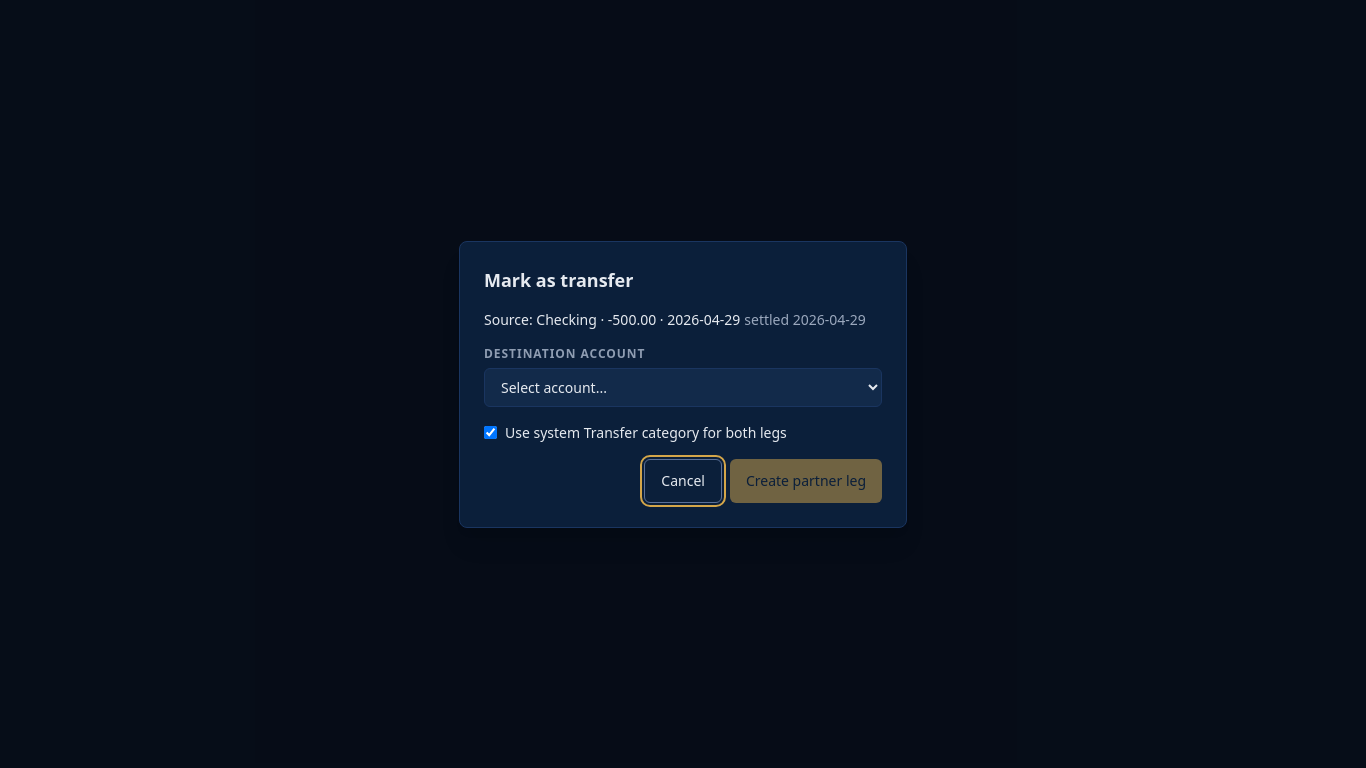
Scenario: MarkAsTransferModal › Stage 2 multi-candidate: radios shown, none pre-selected, primary disabled until pick
Select "Savings" in the dropdown at x=683, y=387, box [484,368,882,406]
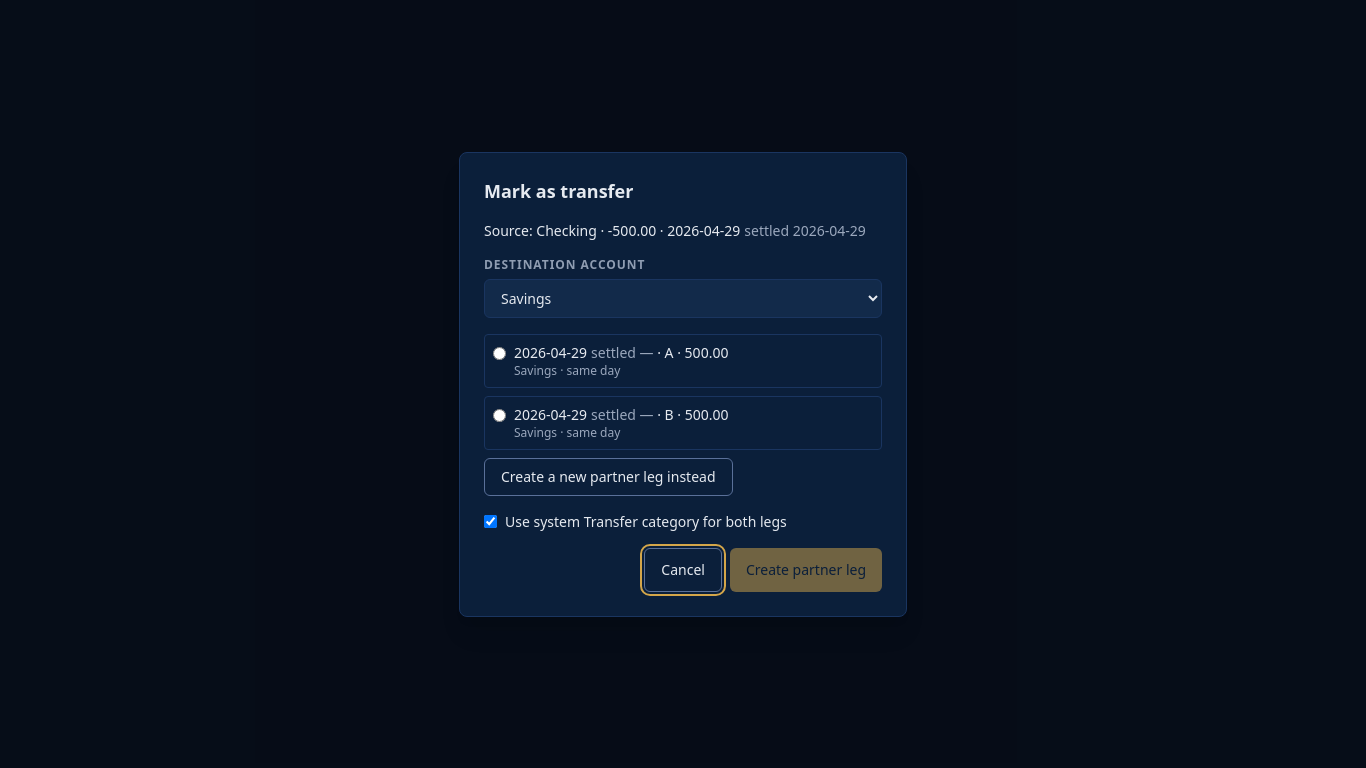
Expected: the button "Create partner leg" is disabled, [730,548,882,592]
Expected: the number of radio buttons is 2
Click the radio button labelled "2026-04-29settled — · A · 500.00 Savings · same day".
click(500, 353)  # box [493,346,506,360]
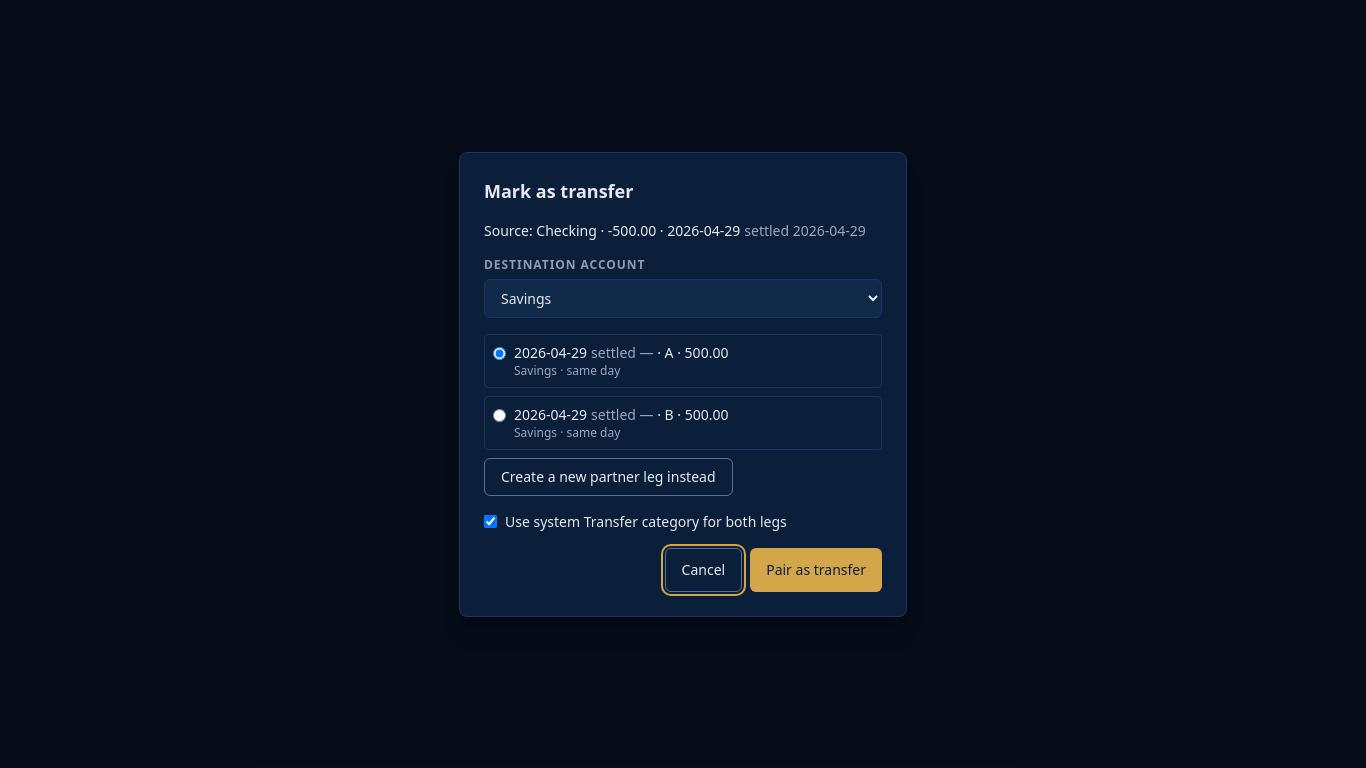
Expected: the button "Pair as transfer" is enabled, [750,548,882,592]
